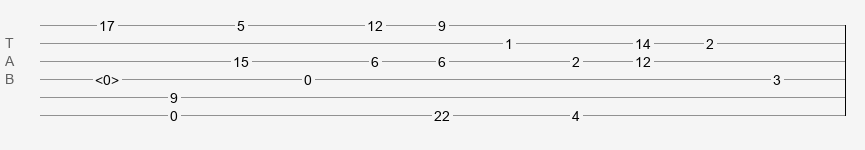0: (170, 108, 178, 118), (304, 72, 312, 82)
1: (505, 36, 513, 46)
12: (367, 18, 383, 28), (635, 54, 651, 64)
14: (635, 36, 651, 46)
15: (233, 54, 249, 64)
17: (99, 18, 115, 28)
2: (572, 54, 580, 64), (706, 36, 714, 46)
22: (434, 108, 450, 118)
3: (773, 72, 781, 82)
4: (572, 108, 580, 118)
5: (237, 18, 245, 28)
6: (371, 54, 379, 64), (438, 54, 446, 64)
9: (170, 90, 178, 100), (438, 18, 446, 28)
harmonic: (95, 72, 119, 82)
